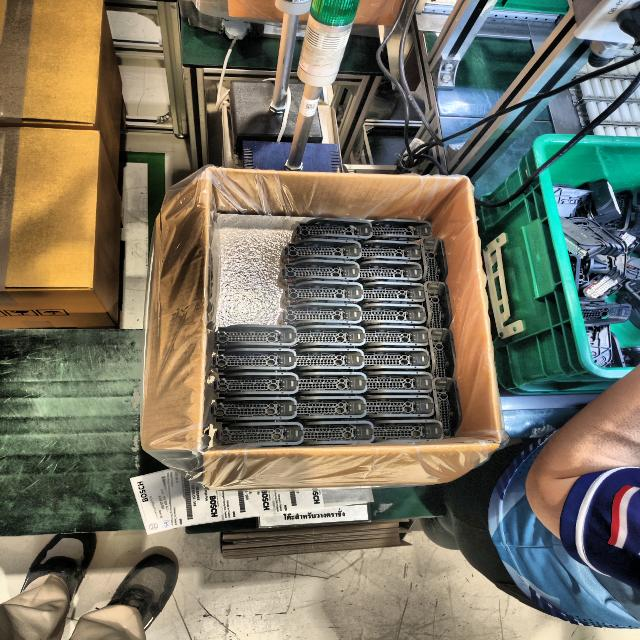P38: (286, 396, 366, 424), (210, 348, 296, 374), (278, 259, 360, 286), (213, 324, 297, 350), (212, 372, 299, 397), (210, 397, 297, 422), (215, 422, 304, 446), (280, 238, 362, 264), (277, 303, 362, 328), (354, 325, 430, 352), (291, 218, 373, 243), (281, 281, 363, 306), (286, 348, 364, 374), (290, 325, 366, 351), (291, 372, 367, 398), (432, 377, 463, 439), (356, 372, 433, 396), (301, 421, 374, 446), (360, 395, 435, 419), (352, 281, 426, 305), (370, 419, 444, 443), (352, 260, 422, 285), (424, 327, 458, 378), (350, 240, 422, 263), (355, 303, 426, 326), (363, 348, 430, 372), (420, 281, 453, 329), (363, 219, 434, 241), (418, 237, 448, 284)
